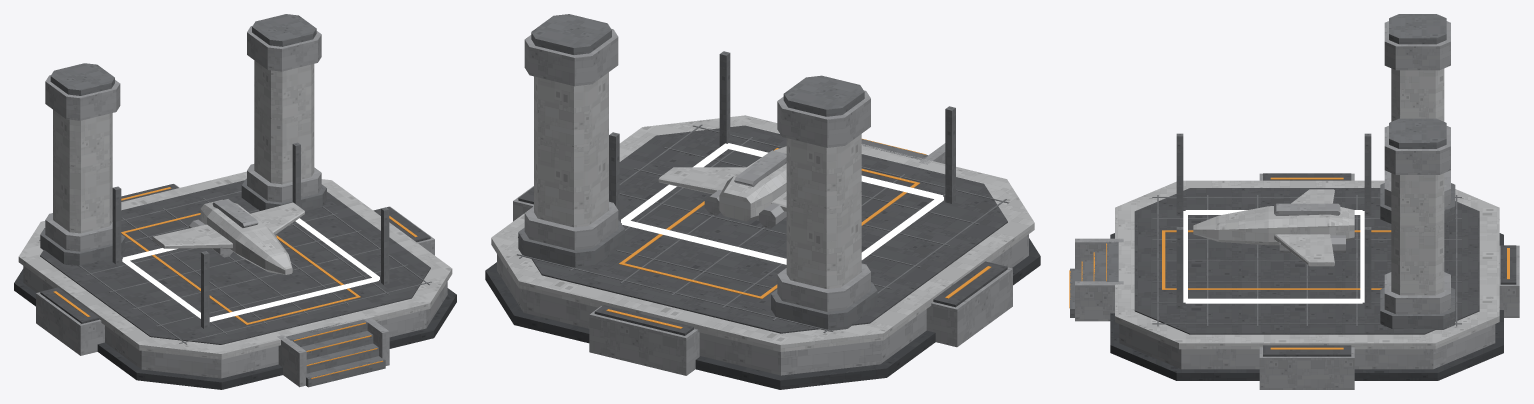
File: upgradeBay_lod2.glb
3 views of the same model, side by side, from view 1: azimuth 30°, elevation 25°; view 2: azimuth 150°, elevation 25°; view 3: azimuth 270°, elevation 25° (orthographic). The views are drawn at different scales.
Parts seen in each view (by area): view 1: upgradeBay_base_body.002, upgradeBay_craft_body.002, upgradeBay_scan_glow.002, upgradeBay_base_trim.002; view 2: upgradeBay_base_body.002, upgradeBay_craft_body.002, upgradeBay_scan_glow.002, upgradeBay_base_trim.002; view 3: upgradeBay_base_body.002, upgradeBay_craft_body.002, upgradeBay_scan_glow.002, upgradeBay_base_trim.002.
Boxes of the visible parts, left/top/right/bottom form: upgradeBay_base_body.002: left=14, top=14, right=456, bottom=389; upgradeBay_craft_body.002: left=152, top=199, right=304, bottom=274; upgradeBay_scan_glow.002: left=122, top=218, right=379, bottom=321; upgradeBay_base_trim.002: left=53, top=187, right=417, bottom=379; upgradeBay_base_body.002: left=485, top=14, right=1040, bottom=389; upgradeBay_craft_body.002: left=658, top=146, right=786, bottom=228; upgradeBay_scan_glow.002: left=621, top=143, right=943, bottom=264; upgradeBay_base_trim.002: left=606, top=138, right=991, bottom=328; upgradeBay_base_body.002: left=1070, top=14, right=1519, bottom=389; upgradeBay_craft_body.002: left=1193, top=189, right=1354, bottom=266; upgradeBay_scan_glow.002: left=1183, top=210, right=1364, bottom=303; upgradeBay_base_trim.002: left=1069, top=177, right=1509, bottom=349.
Size of the model in its own units: 3.94 by 2.19 by 4.07.
3 materials, 1 textured.
